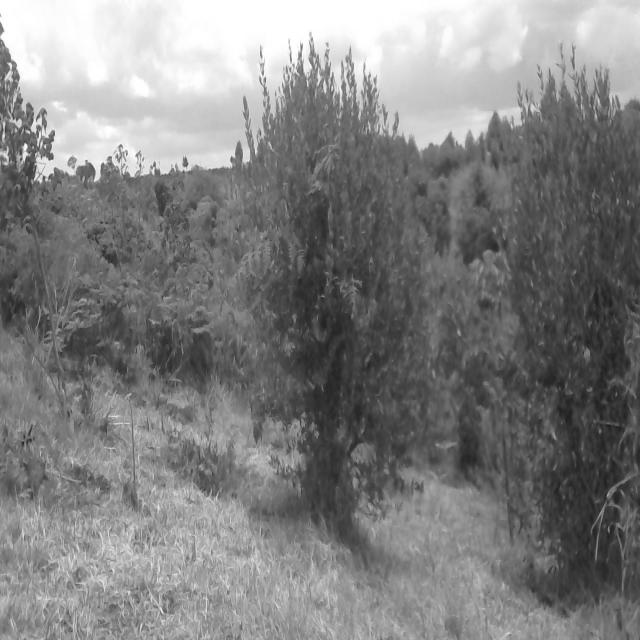Olea europea -africana-: (231, 27, 426, 526), (481, 38, 640, 574)
